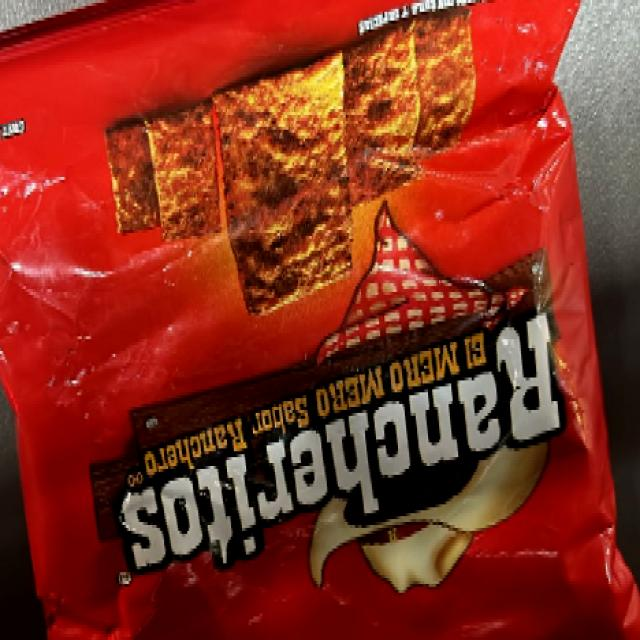rancheritos: (80, 57, 569, 616)
